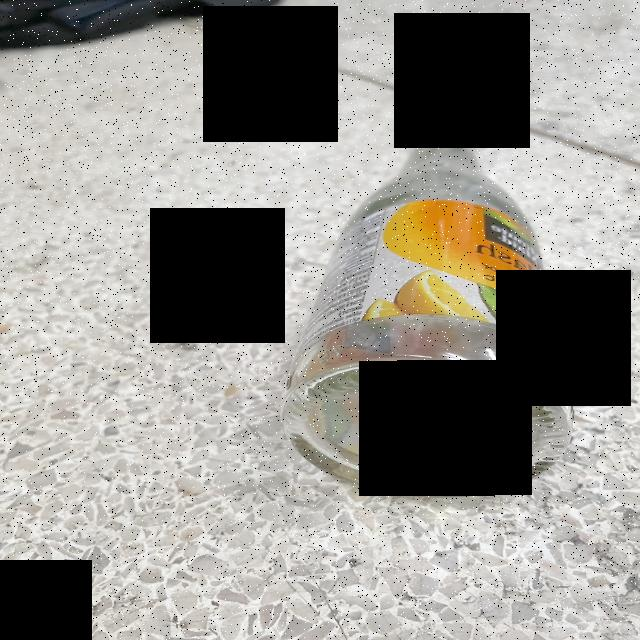glass-bottle: (254, 84, 600, 520)
